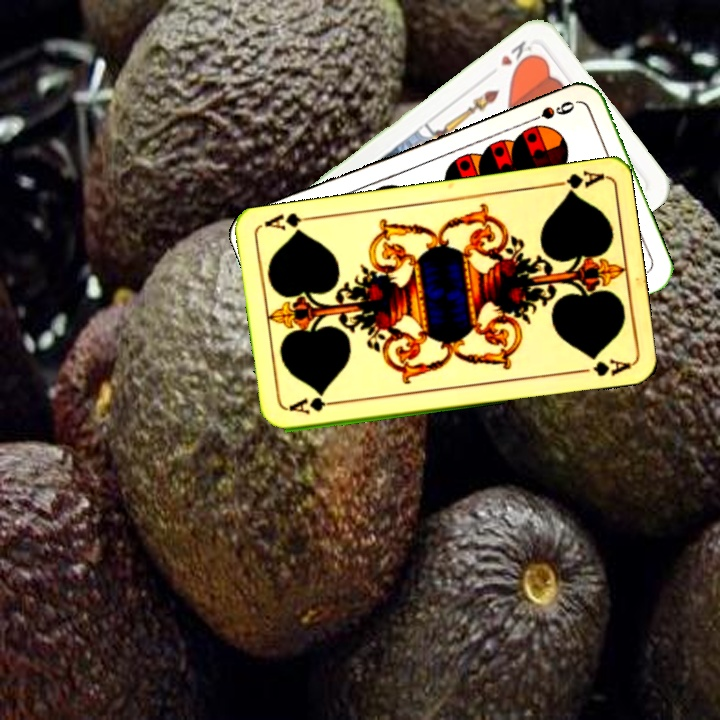GA: (546, 167, 605, 198), (284, 393, 344, 417)
HK: (496, 35, 538, 74)
S9: (522, 97, 578, 127)
